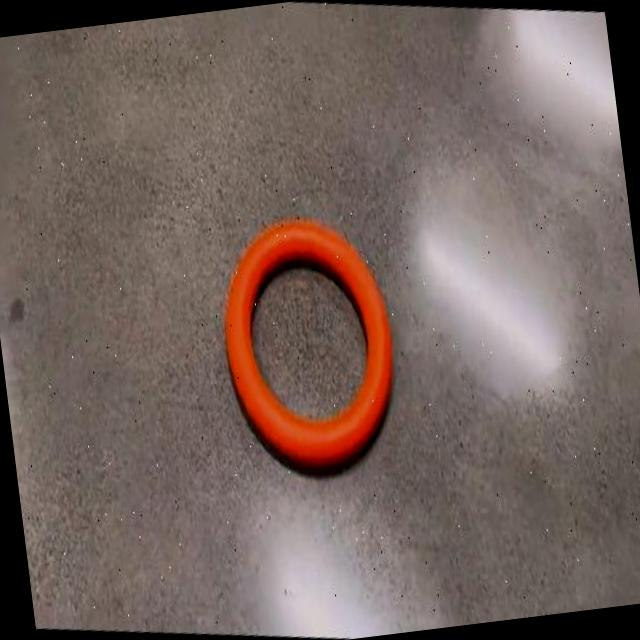note: (225, 220, 392, 467)
